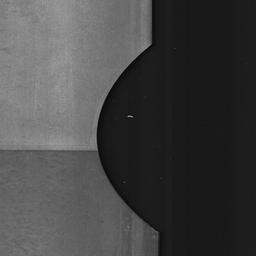Crescent gap: (97, 26, 156, 232)
